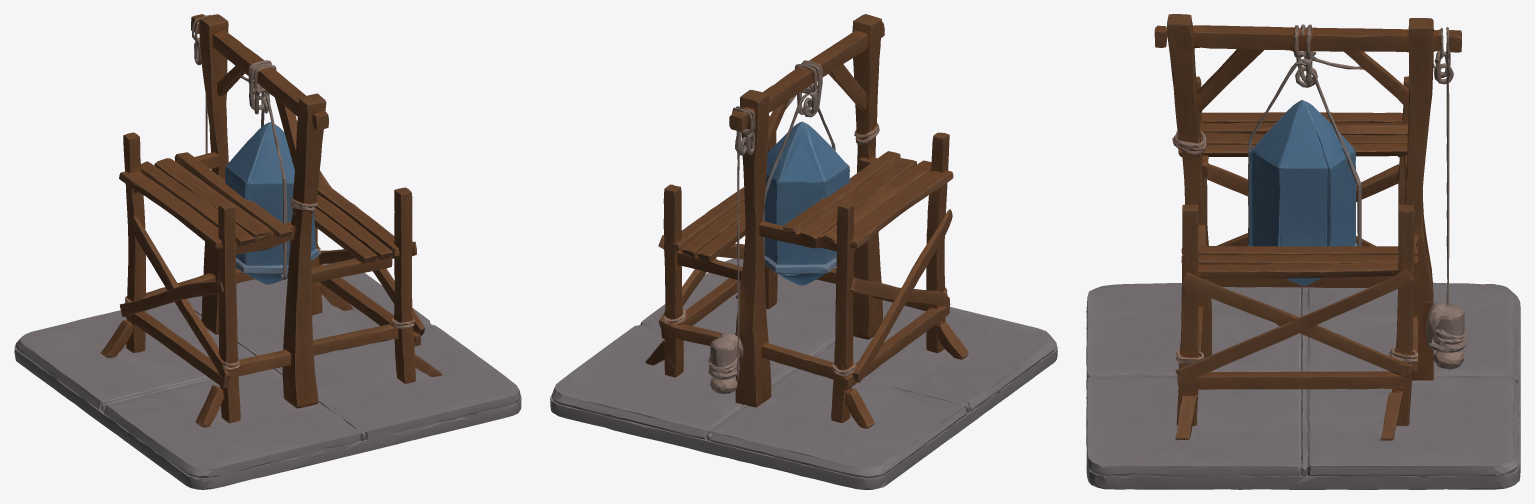
Rendered from potentialTower.fbx.
3 views of the same model, side by side, from view 1: azimuth 30°, elevation 25°; view 2: azimuth 150°, elevation 25°; view 3: azimuth 270°, elevation 25° (orthographic). The views are drawn at different scales.
Parts seen in each view (by area): view 1: model; view 2: model; view 3: model.
Part boxes in pixels (x1,y1,x2,y2): model: [14, 14, 521, 489]; model: [550, 14, 1057, 489]; model: [1086, 14, 1520, 489].
Bounding box in the file's own units: 190 × 178 × 187.
1 material, 1 textured.
